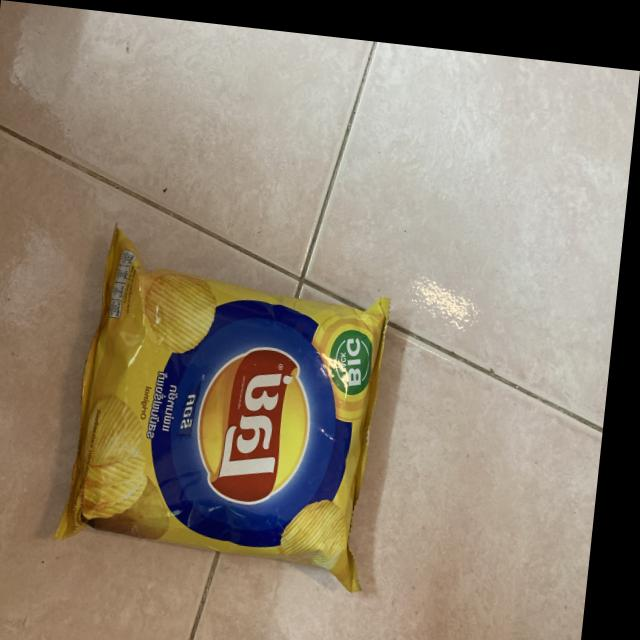LayYellow: (75, 217, 400, 594)
